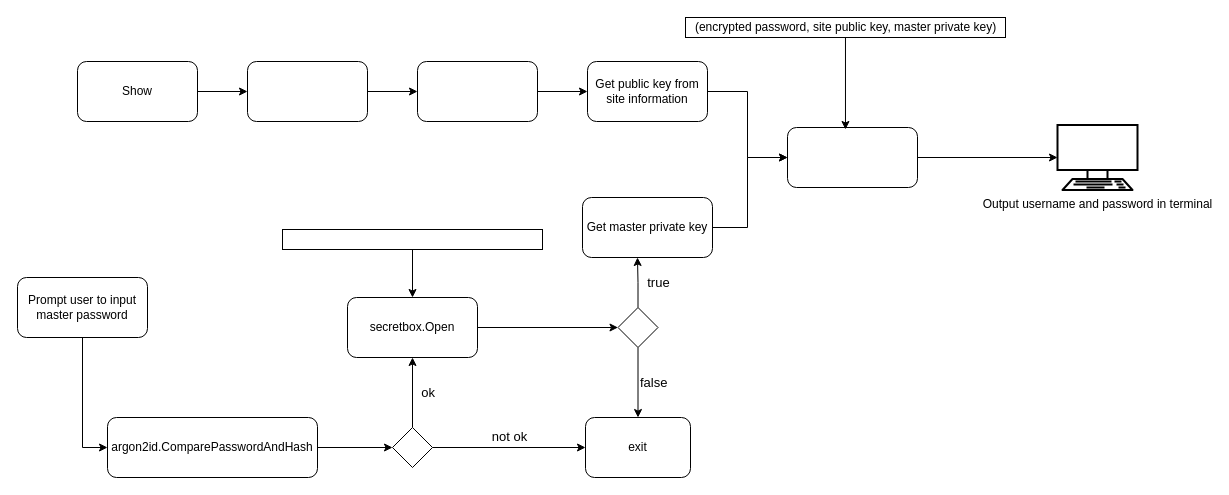
The diagram is 1229 pixels wide and 495 high, and some of its shapes have lost their labels. Here are the shapes that lost their labels. From the top down, the centre of each, then its label:
At point 307,91: "Prompt for site".
At point 477,91: "Get site information from sites.json".
At point 852,157: "box.Open".
At point 412,239: "(encrypted master private key, password key)".
